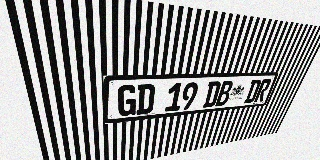1: (165, 83, 184, 112)
9: (180, 82, 199, 110)
B: (215, 81, 234, 106)
D: (136, 84, 156, 115), (202, 81, 222, 108), (244, 79, 262, 103)
G: (118, 85, 137, 117)
R: (254, 79, 272, 102)
